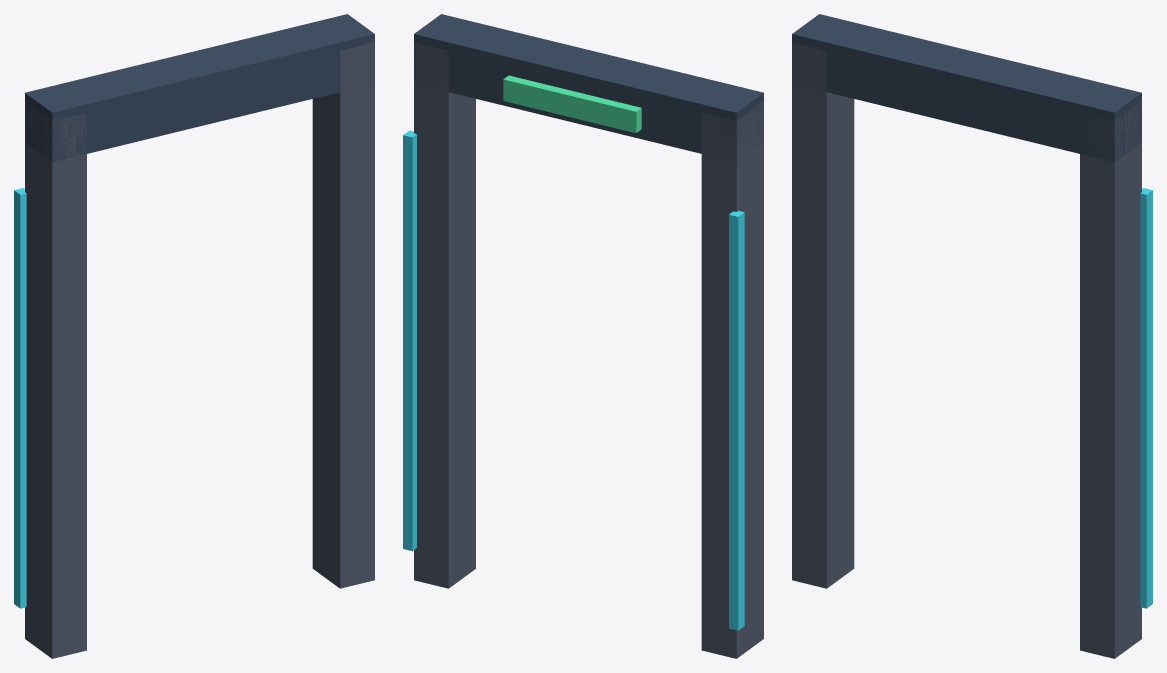
The model's file is env_door_frame.obj.
3 views of the same model, side by side, from view 1: azimuth 30°, elevation 25°; view 2: azimuth 150°, elevation 25°; view 3: azimuth 330°, elevation 25° (orthographic).
Size of the model in its own units: 2.12 by 3.3 by 0.36.
